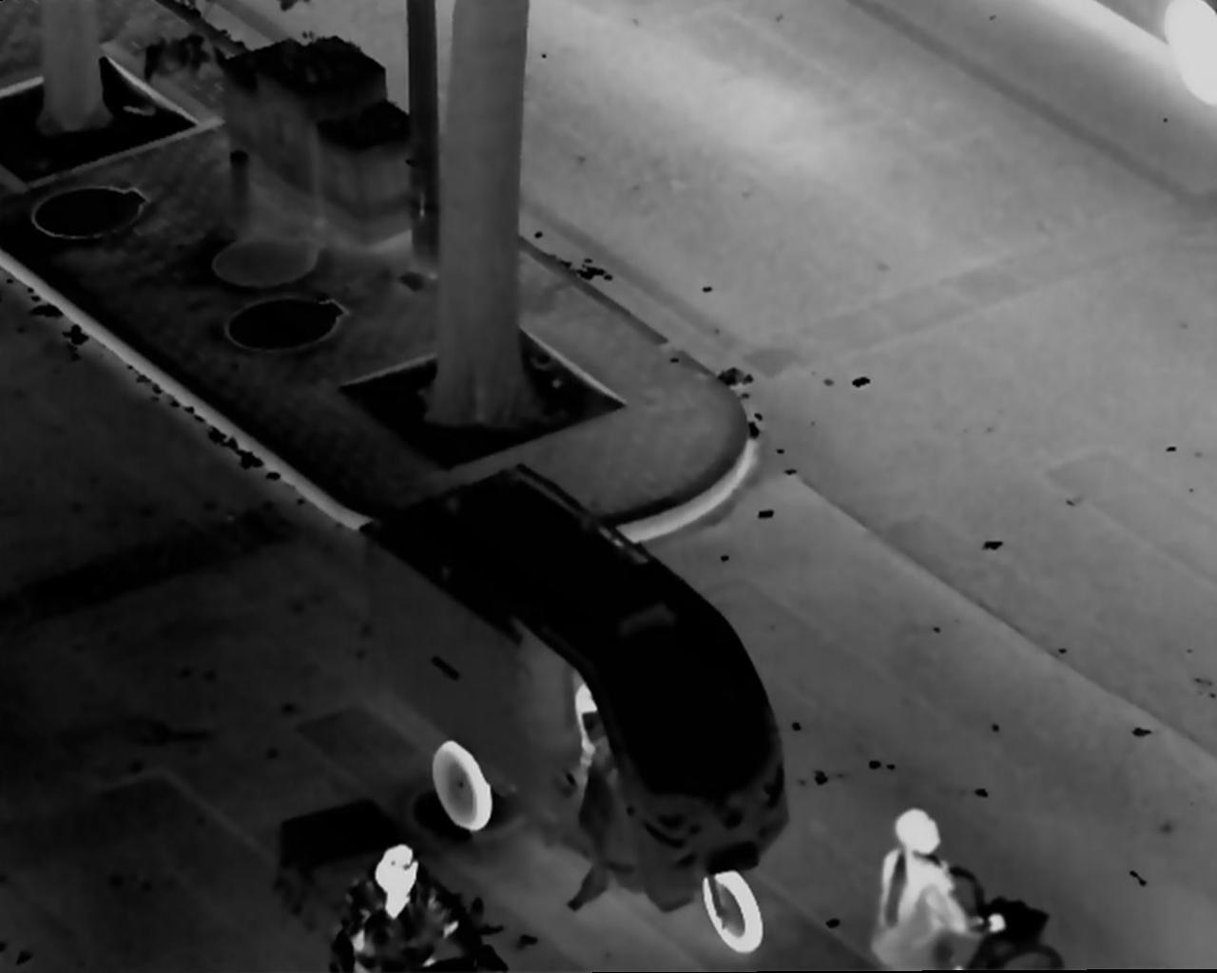person: (881, 809, 1017, 973), (338, 844, 488, 973)
